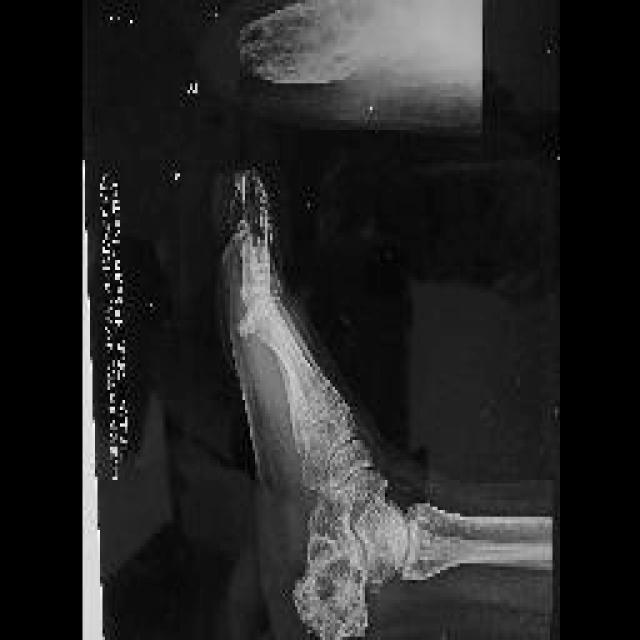bone-cancer: (297, 533, 367, 639)
